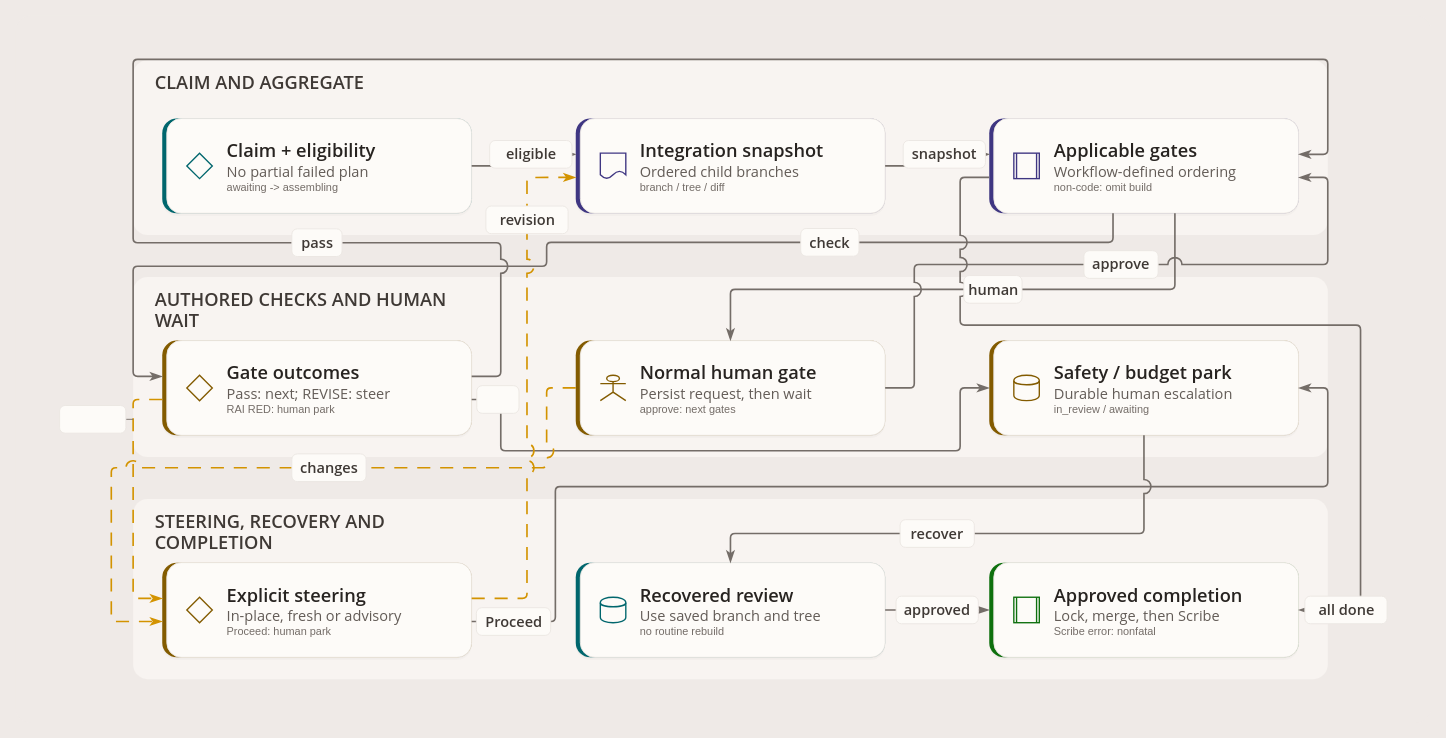
Some shapes in this 1446 by 738 pixel diagram are drawn without their labels. Each missing label, with the centre of its shape:
"RED" goes at point (497, 399).
"REVISE" goes at point (92, 419).
